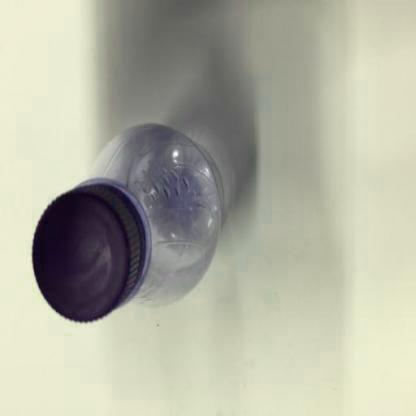Plastic: (26, 117, 230, 328)
